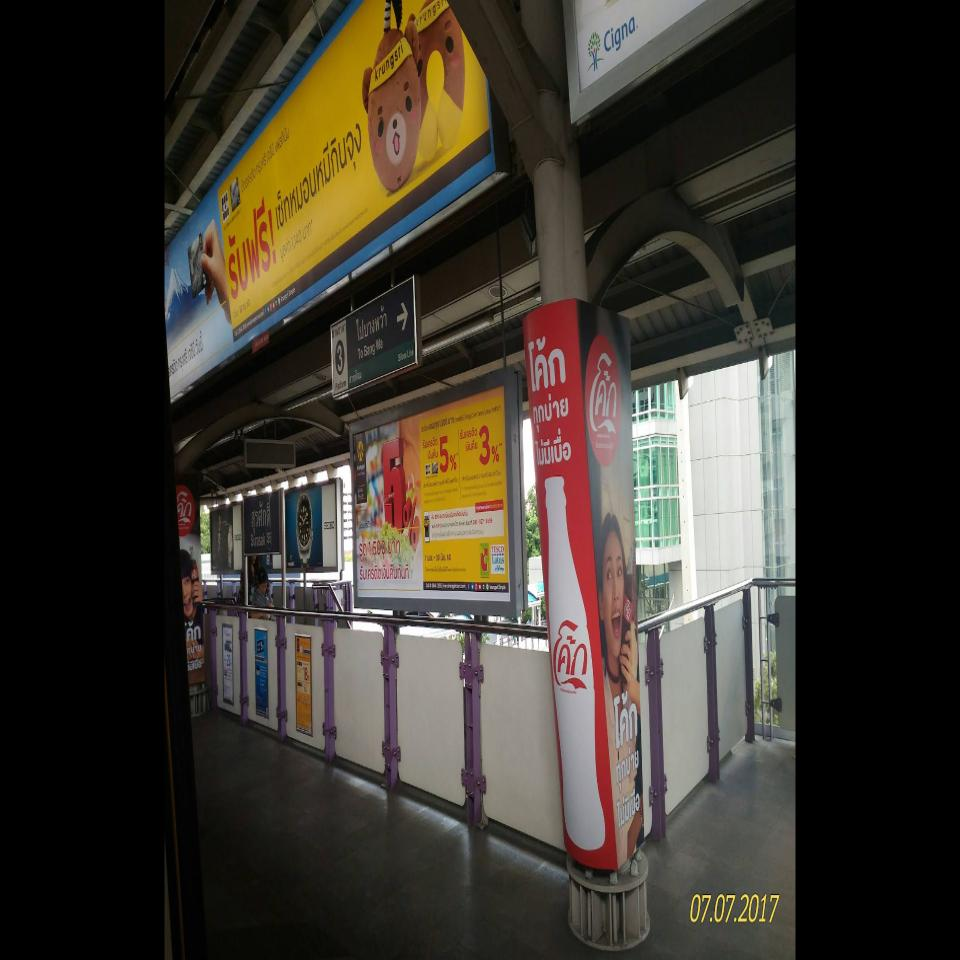Surasak: (245, 489, 281, 556)
